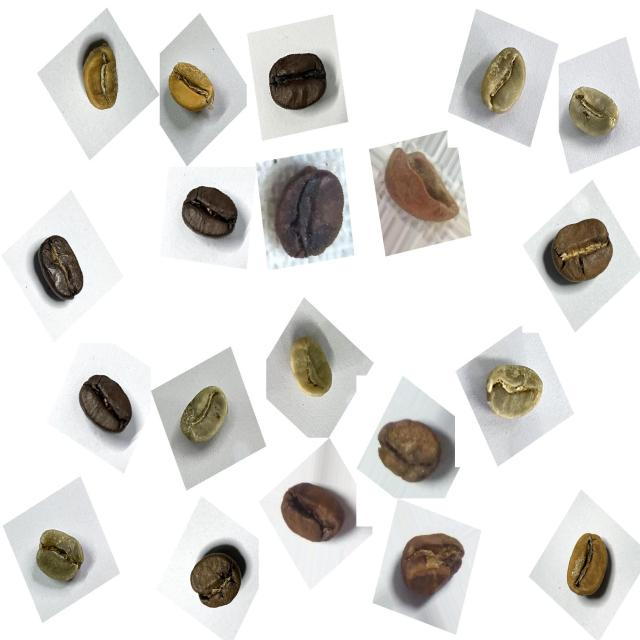bad: (264, 156, 353, 271), (375, 140, 466, 238), (391, 522, 472, 616), (272, 467, 354, 556), (372, 407, 452, 496)
dark: (258, 39, 335, 124), (171, 174, 247, 254), (26, 225, 94, 314), (70, 359, 141, 444)
green: (474, 352, 554, 437), (468, 38, 539, 128), (169, 375, 240, 461), (279, 326, 344, 412), (26, 518, 96, 597), (560, 76, 629, 150)
light: (554, 522, 622, 612), (66, 31, 130, 124), (160, 50, 226, 126)
medium: (541, 205, 625, 297), (180, 539, 253, 621)
